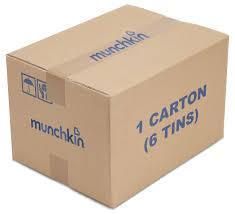Cardboard: (3, 5, 235, 214)
